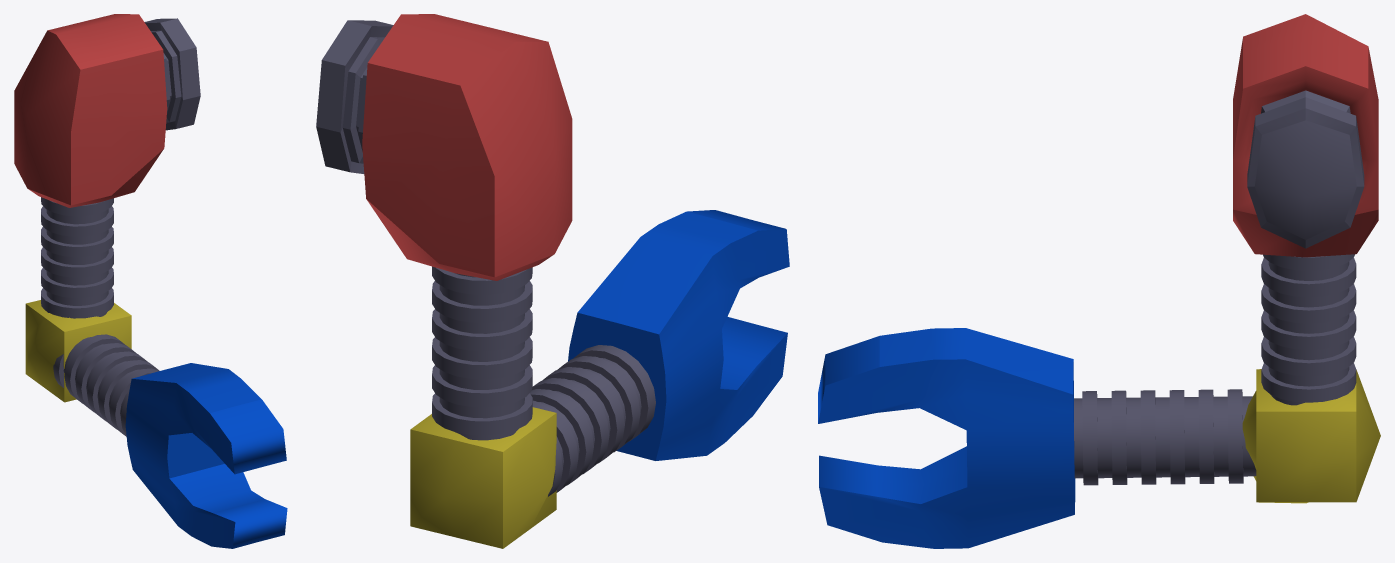
The model's file is Robot_Arm_right_A.fbx.
The picture shows the model from 3 angles, left to right: view 1: azimuth 30°, elevation 25°; view 2: azimuth 150°, elevation 25°; view 3: azimuth 270°, elevation 25°; orthographic projection. The views are drawn at different scales.
Parts seen in each view (by area): view 1: pCube11, polySurface48, pCylinder5, polySurface47, pCube12; view 2: pCube11, polySurface48, pCylinder5, pCube12, polySurface47; view 3: polySurface48, pCube11, polySurface47, pCylinder5, pCube12.
Boxes of the visible parts, x1,y1,x2,y2 form: pCube11: (14,14,200,207); polySurface48: (125,363,287,548); pCylinder5: (41,197,113,318); polySurface47: (53,334,159,436); pCube12: (25,300,131,402); pCube11: (316,14,572,280); polySurface48: (568,210,789,460); pCylinder5: (432,266,532,440); pCube12: (410,407,556,548); polySurface47: (530,345,655,496); polySurface48: (818,328,1075,548); pCube11: (1233,14,1378,257); polySurface47: (1074,389,1256,485); pCylinder5: (1261,254,1356,405); pCube12: (1242,369,1380,503).
Size of the model in its own units: 1.18 by 2.62 by 2.62.
